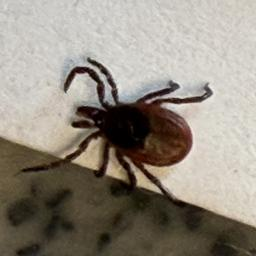Ixodes scapularis: (22, 56, 213, 209)
